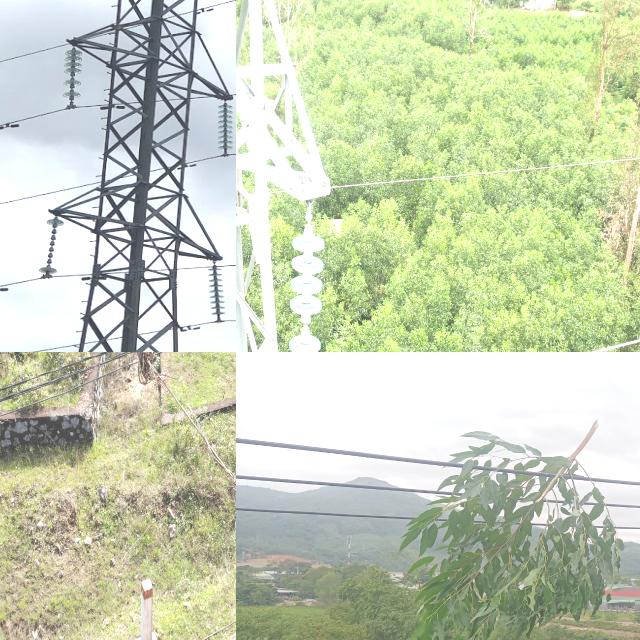杆塔: (36, 0, 236, 352), (236, 0, 335, 352)
植被遮挡: (379, 411, 640, 640)
正常绝缘子: (282, 205, 326, 352), (204, 258, 234, 324), (35, 207, 61, 280), (60, 39, 84, 111), (217, 94, 235, 158)
电缆破损: (129, 352, 236, 516)
绝缘子破损: (300, 318, 312, 338), (51, 232, 58, 238), (48, 244, 55, 250), (48, 249, 54, 256), (69, 85, 75, 91), (47, 255, 53, 261), (70, 73, 76, 78), (50, 238, 56, 243), (52, 226, 57, 231)
